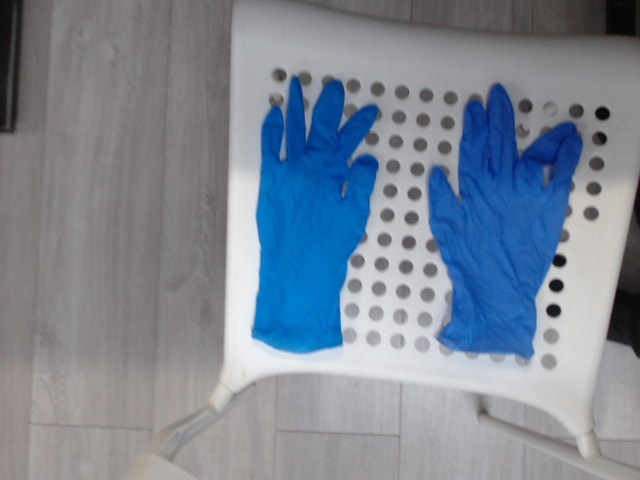medical_glove: (428, 87, 577, 355), (252, 77, 377, 347)
